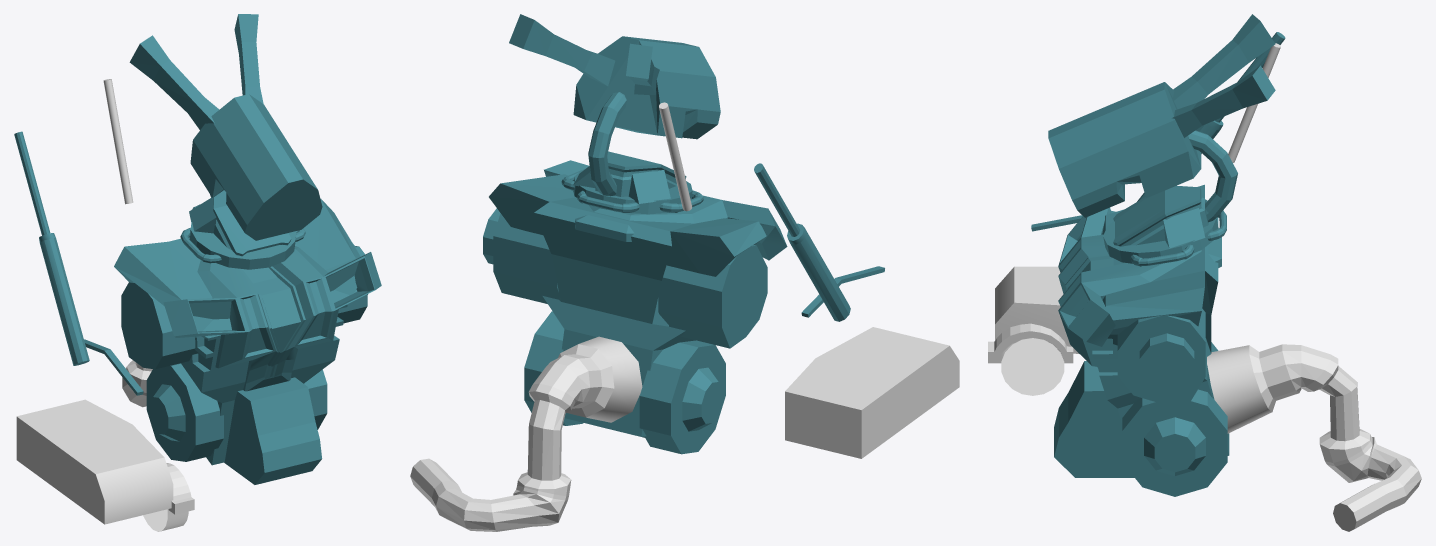
Rendered from M_BossColliders.FBX.
3 renders of one model, left to right at view 1: azimuth 30°, elevation 25°; view 2: azimuth 150°, elevation 25°; view 3: azimuth 270°, elevation 25°, orthographic. The views are drawn at different scales.
Parts seen in each view (by area): view 1: collider_body, collider_headTop, collider_Cranebottom, Collider_bottom, collider_headbot, collider_crane, collider_cranewheel, collider_backtube, collider_wire, collider_cranebar; view 2: collider_body, collider_wire, collider_Cranebottom, collider_headTop, collider_headbot, collider_crane, collider_headwire, collider_backtube, collider_cranebar; view 3: collider_body, collider_headTop, collider_wire, collider_headbot, Collider_bottom, collider_cranewheel, collider_Cranebottom, collider_headwire, collider_backtube, collider_crane.
Boxes of the visible parts, bbox=[...] form: collider_body: bbox=[114, 198, 381, 465]; collider_headTop: bbox=[129, 14, 322, 240]; collider_Cranebottom: bbox=[16, 399, 173, 524]; Collider_bottom: bbox=[224, 377, 322, 484]; collider_headbot: bbox=[180, 190, 305, 269]; collider_crane: bbox=[14, 131, 89, 365]; collider_cranewheel: bbox=[143, 463, 194, 531]; collider_backtube: bbox=[103, 79, 133, 204]; collider_wire: bbox=[122, 360, 152, 407]; collider_cranebar: bbox=[84, 339, 143, 395]; collider_body: bbox=[483, 160, 787, 454]; collider_wire: bbox=[410, 336, 642, 531]; collider_Cranebottom: bbox=[785, 327, 959, 458]; collider_headTop: bbox=[509, 14, 720, 139]; collider_headbot: bbox=[561, 151, 703, 214]; collider_crane: bbox=[754, 163, 850, 321]; collider_headwire: bbox=[588, 92, 626, 196]; collider_backtube: bbox=[659, 102, 691, 211]; collider_cranebar: bbox=[801, 266, 884, 317]; collider_body: bbox=[1058, 184, 1229, 496]; collider_headTop: bbox=[1048, 14, 1275, 217]; collider_wire: bbox=[1207, 344, 1421, 531]; collider_headbot: bbox=[1103, 185, 1226, 266]; Collider_bottom: bbox=[1054, 361, 1134, 477]; collider_cranewheel: bbox=[988, 323, 1073, 395]; collider_Cranebottom: bbox=[995, 266, 1078, 353]; collider_headwire: bbox=[1188, 130, 1237, 222]; collider_backtube: bbox=[1228, 43, 1280, 162]; collider_crane: bbox=[1137, 32, 1285, 201].
Bounding box in the file's own units: 373 × 437 × 391.
